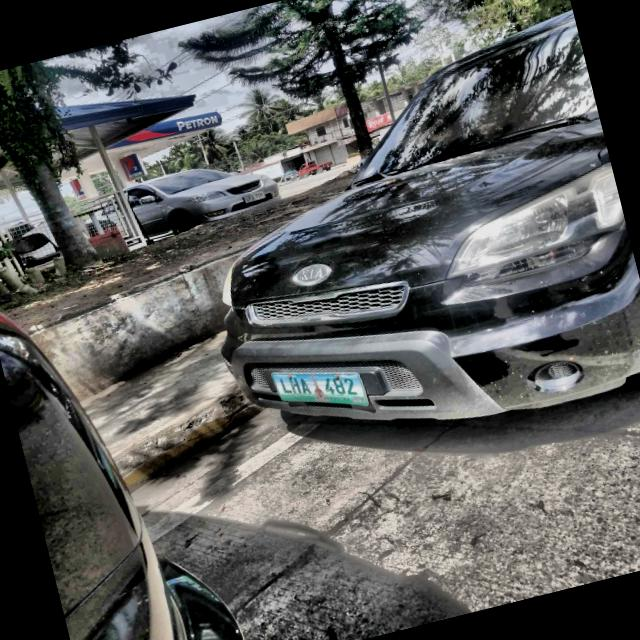license-plate: (270, 367, 373, 408)
